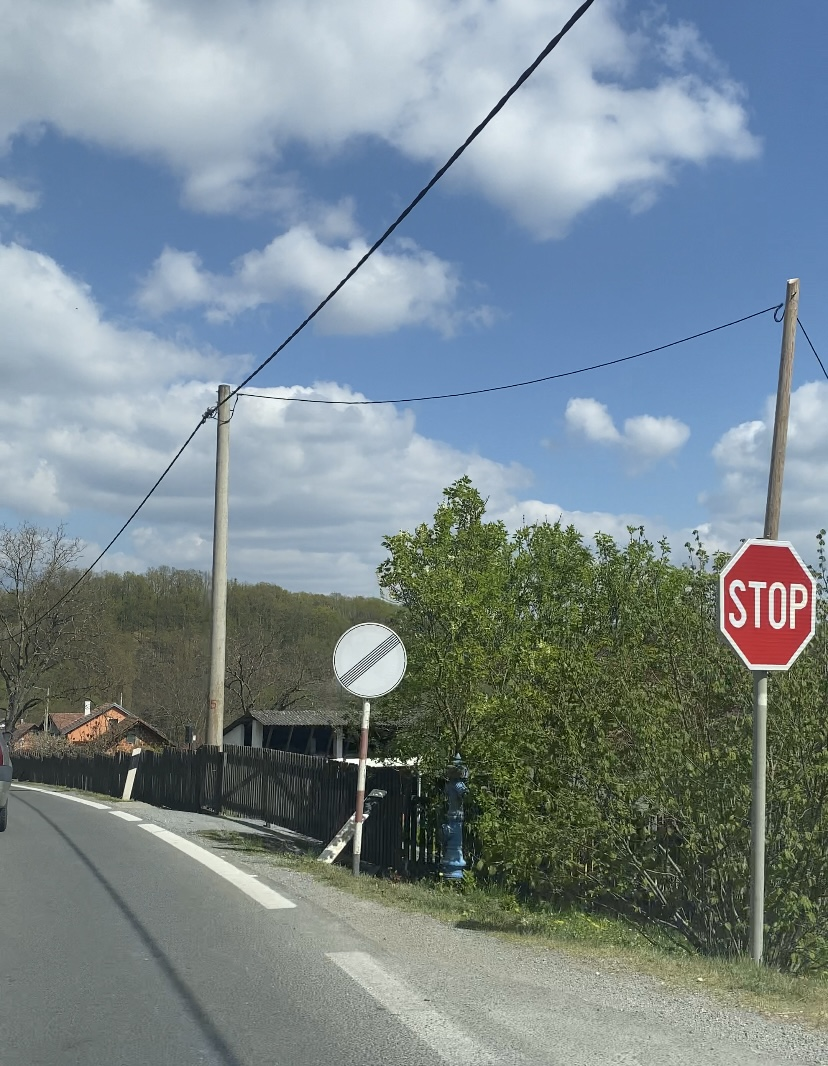Obavezno zaustavljanje: (720, 538, 816, 670)
